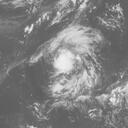cyclone: (48, 25, 109, 100)
